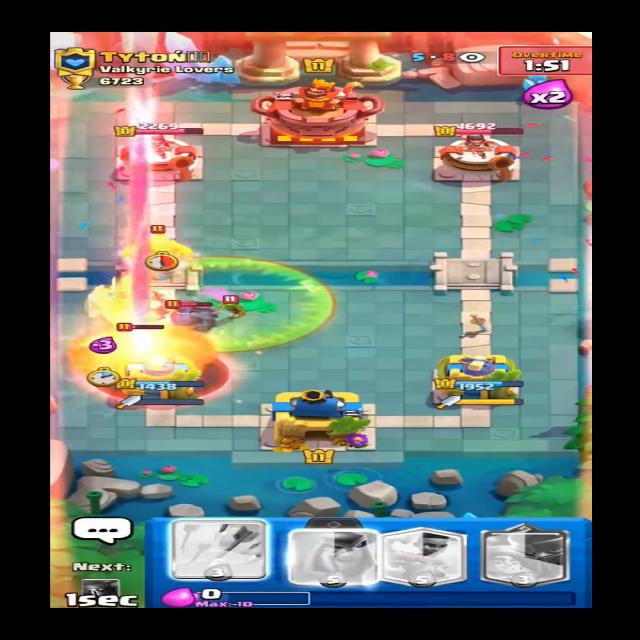goblin: (206, 288, 253, 318)
goblin-demolisher: (112, 227, 204, 263)
pekka: (152, 295, 227, 331)
void: (99, 256, 337, 353)
